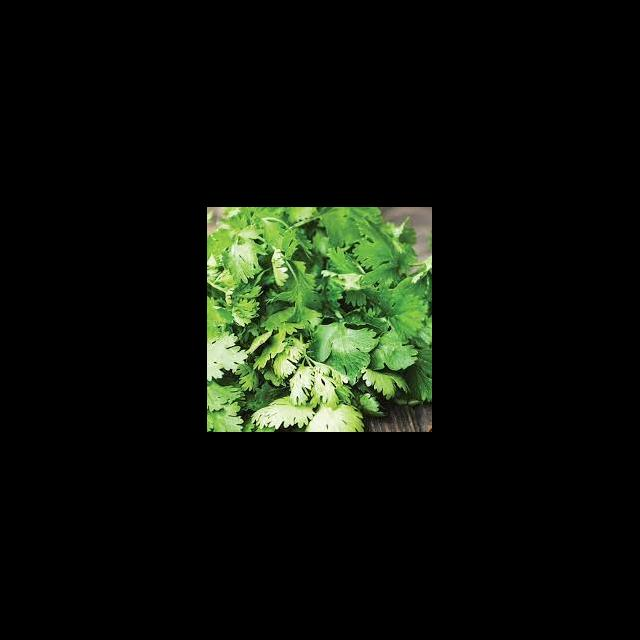cilantro: (219, 223, 398, 418)
